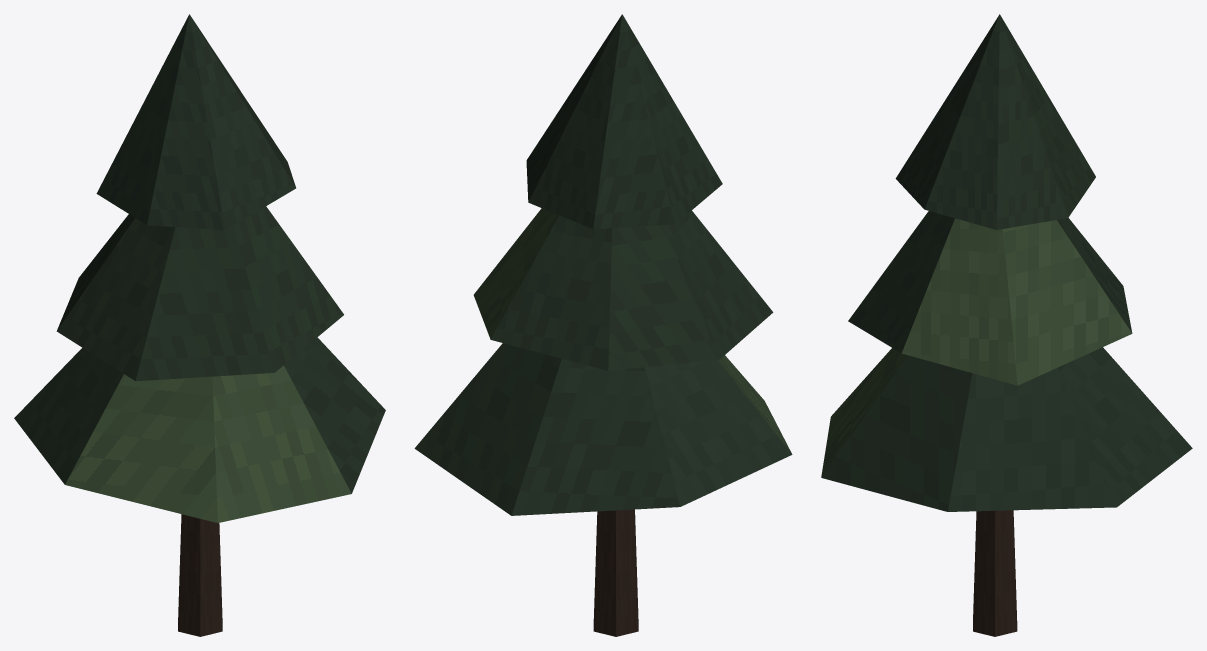
Rendered from tree_pine.glb.
3 views of the same model, side by side, from view 1: azimuth 30°, elevation 25°; view 2: azimuth 150°, elevation 25°; view 3: azimuth 270°, elevation 25° (orthographic).
Parts seen in each view (by area): view 1: tree_pine; view 2: tree_pine; view 3: tree_pine.
Part boxes in pixels (x1=…): tree_pine: x1=14, y1=14, x2=385, y2=636; tree_pine: x1=414, y1=14, x2=792, y2=636; tree_pine: x1=821, y1=14, x2=1192, y2=636.
Bounding box in the file's own units: 2.85 × 5.26 × 2.91.
1 material, 1 textured.
